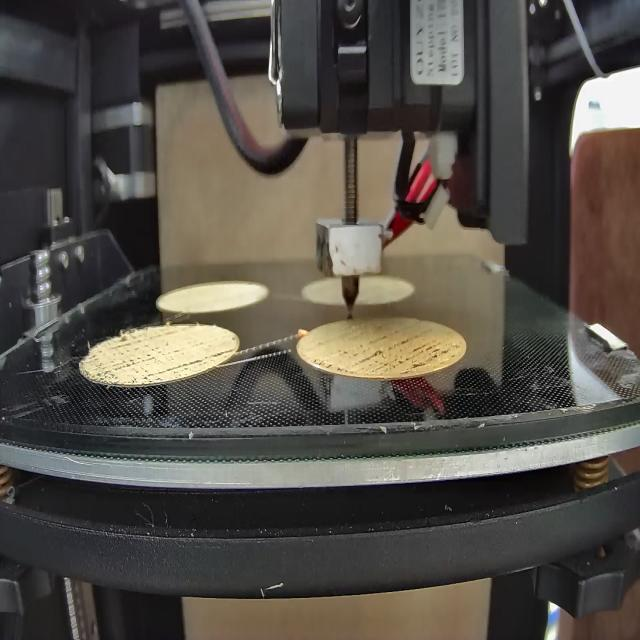under_extrusion: (89, 329, 205, 386), (308, 334, 460, 376), (210, 337, 237, 363)
